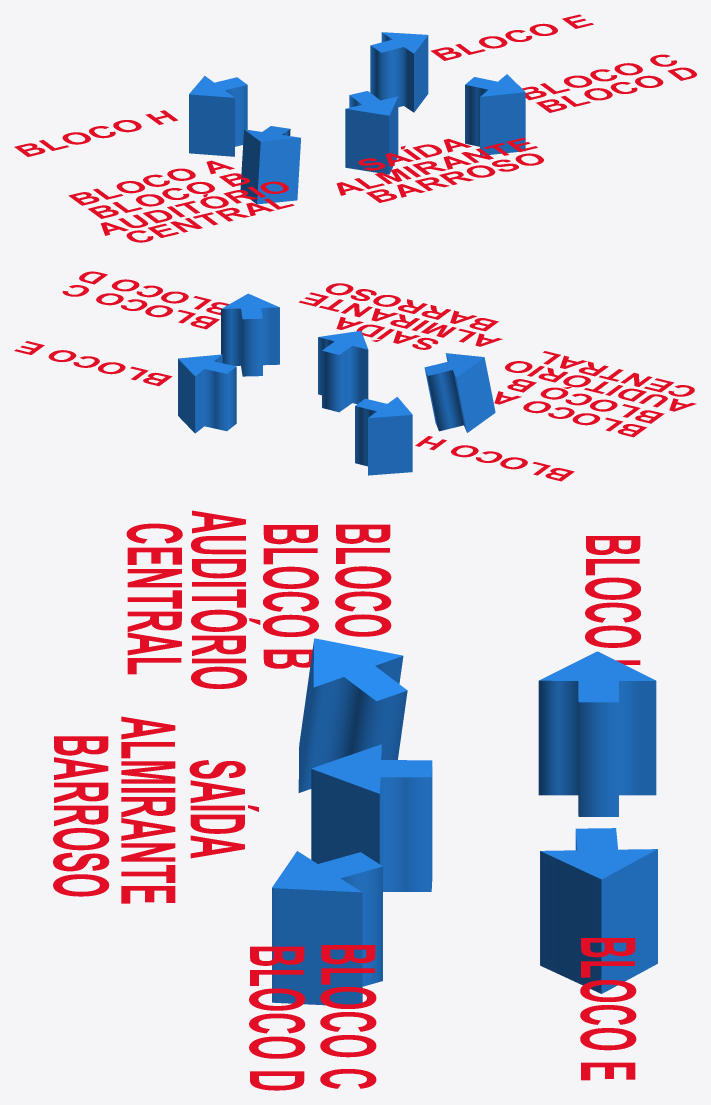
The model's file is bloco F.glb.
3 renders of one model, top to bottom at view 1: azimuth 30°, elevation 25°; view 2: azimuth 150°, elevation 25°; view 3: azimuth 270°, elevation 25°, orthographic. The views are drawn at different scales.
Parts seen in each view (by area): view 1: Curve.002, Curve.005, Curve.003, Curve.004, Curve.001, Text.008, Text.006, Text.009, Text.001, Text.005, Text.011, Text.004 (+4 smaller); view 2: Curve.004, Curve.003, Curve.002, Curve.005, Curve.001, Text.008, Text.006, Text.009, Text.001, Text.005, Text.003, Text.002 (+4 smaller); view 3: Curve.002, Curve.003, Curve.001, Curve.005, Curve.004, Text.008, Text.006, Text.009, Text.001, Text.011, Text.005, Text.003 (+4 smaller).
Boxes of the visible parts, <box> form: Curve.002: <box>189,76,247,156</box>; Curve.005: <box>465,74,525,155</box>; Curve.003: <box>370,32,428,112</box>; Curve.004: <box>240,126,300,204</box>; Curve.001: <box>345,91,398,174</box>; Text.008: <box>336,137,537,195</box>; Text.006: <box>100,181,288,235</box>; Text.009: <box>366,153,543,202</box>; Text.001: <box>126,198,294,242</box>; Text.005: <box>88,173,249,218</box>; Text.011: <box>536,67,696,112</box>; Text.004: <box>68,160,234,205</box>; Curve.004: <box>424,353,495,432</box>; Curve.003: <box>178,354,236,433</box>; Curve.002: <box>355,396,412,475</box>; Curve.005: <box>221,293,279,376</box>; Curve.001: <box>318,331,368,412</box>; Text.008: <box>298,292,502,346</box>; Text.006: <box>505,361,696,411</box>; Text.009: <box>326,283,498,331</box>; Text.001: <box>543,351,694,396</box>; Text.005: <box>507,379,664,423</box>; Text.003: <box>14,341,172,386</box>; Text.002: <box>415,436,574,481</box>; Curve.002: <box>538,651,656,816</box>; Curve.003: <box>540,828,657,993</box>; Curve.001: <box>311,744,432,891</box>; Curve.005: <box>272,851,382,1005</box>; Curve.004: <box>298,638,407,792</box>; Text.008: <box>121,716,175,903</box>; Text.006: <box>191,510,260,688</box>; Text.009: <box>53,736,109,896</box>; Text.001: <box>126,523,182,674</box>; Text.011: <box>249,946,305,1090</box>; Text.005: <box>263,525,318,668</box>; Text.003: <box>580,938,636,1080</box>.
Bounding box in the file's own units: 3.79 × 0.4036 × 1.67.
